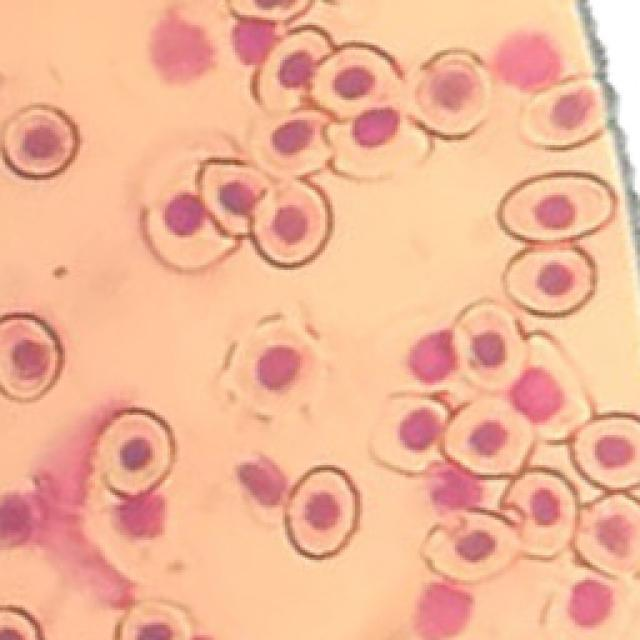RBC: (222, 312, 322, 418), (509, 331, 592, 441), (498, 172, 616, 242), (142, 191, 239, 271), (325, 106, 430, 179), (421, 510, 520, 582), (410, 50, 491, 138), (444, 398, 534, 476), (452, 300, 528, 391), (285, 466, 359, 559), (251, 180, 331, 266), (98, 409, 175, 496), (311, 44, 400, 119), (254, 26, 332, 111), (504, 470, 578, 559), (504, 248, 596, 316), (372, 395, 449, 474), (521, 78, 605, 149), (2, 105, 79, 178), (198, 159, 270, 237), (250, 110, 330, 178), (0, 314, 62, 400), (575, 494, 640, 575), (572, 416, 640, 490), (116, 601, 192, 640), (229, 1, 314, 22)
WBC: (151, 11, 214, 81), (495, 31, 562, 90), (415, 582, 472, 640), (409, 329, 456, 384), (238, 456, 288, 506), (430, 464, 481, 509), (118, 491, 165, 538), (569, 579, 612, 626), (232, 19, 274, 64), (0, 492, 34, 546)
